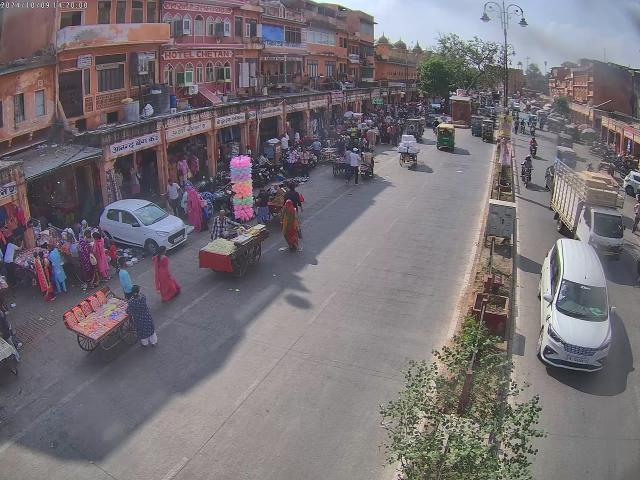auto: (434, 122, 456, 152), (404, 116, 426, 140), (474, 118, 496, 142)
car: (536, 235, 614, 377)
license_plate: (568, 355, 588, 364), (602, 250, 614, 256)
lorry: (548, 169, 626, 259)
motorbike-rider: (520, 156, 534, 188)
person: (151, 250, 179, 302), (45, 243, 68, 296), (278, 199, 300, 249), (182, 184, 203, 230), (0, 234, 16, 284), (164, 180, 182, 215), (176, 156, 188, 182)
rickshow: (398, 135, 420, 164)
scooty-rider: (529, 139, 539, 157)
vendor: (70, 285, 156, 361), (198, 224, 268, 279), (266, 185, 288, 218)
